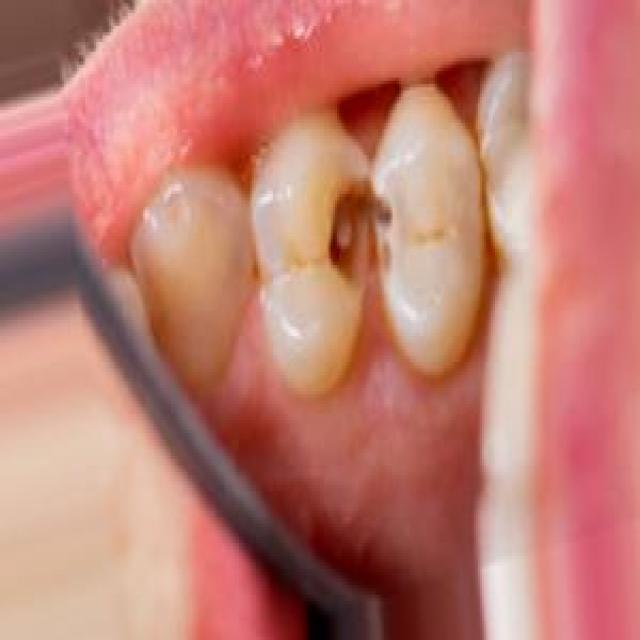caries: (304, 160, 406, 298)
